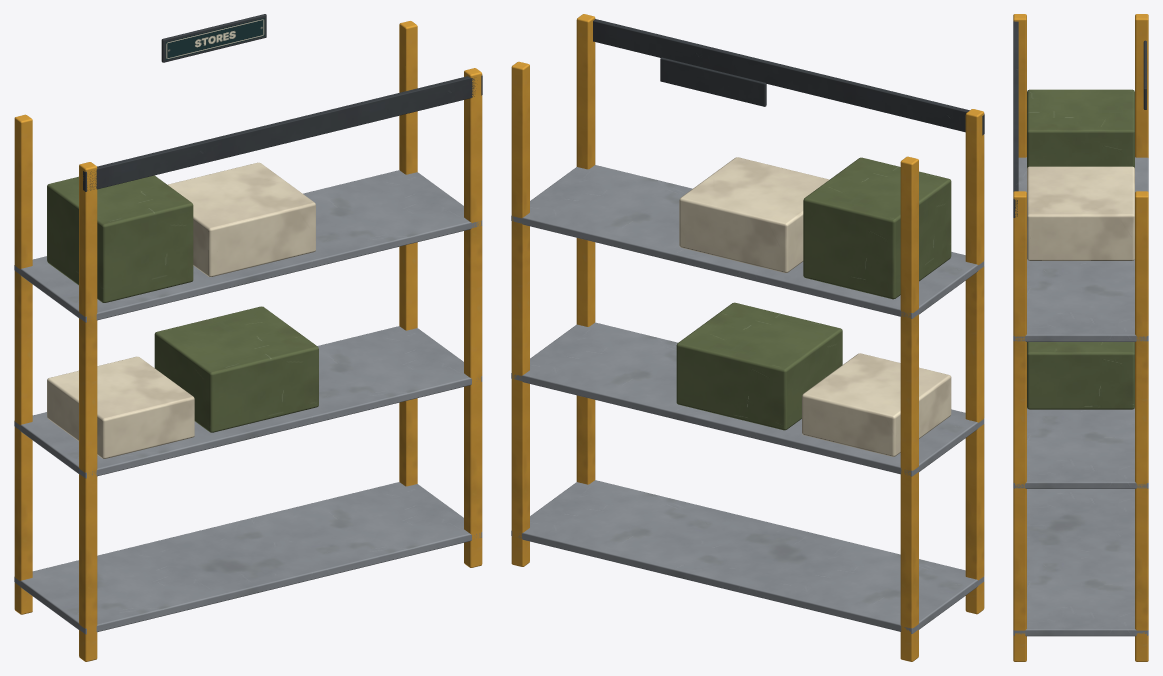
Rendered from StoresShelf.glb.
The picture shows the model from 3 angles, left to right: view 1: azimuth 30°, elevation 25°; view 2: azimuth 150°, elevation 25°; view 3: azimuth 270°, elevation 25°; orthographic projection. The views are drawn at different scales.
Visible parts, largest first — view 1: StoresShelf_Body; view 2: StoresShelf_Body; view 3: StoresShelf_Body.
Part boxes in pixels (box(x1,y1,x2,y2)): StoresShelf_Body: box(14, 14, 482, 661); StoresShelf_Body: box(511, 14, 984, 661); StoresShelf_Body: box(1013, 14, 1148, 661).
Bounding box in the file's own units: 1.6 × 2.07 × 0.5.
Materials: 6 (6 with a texture image).
